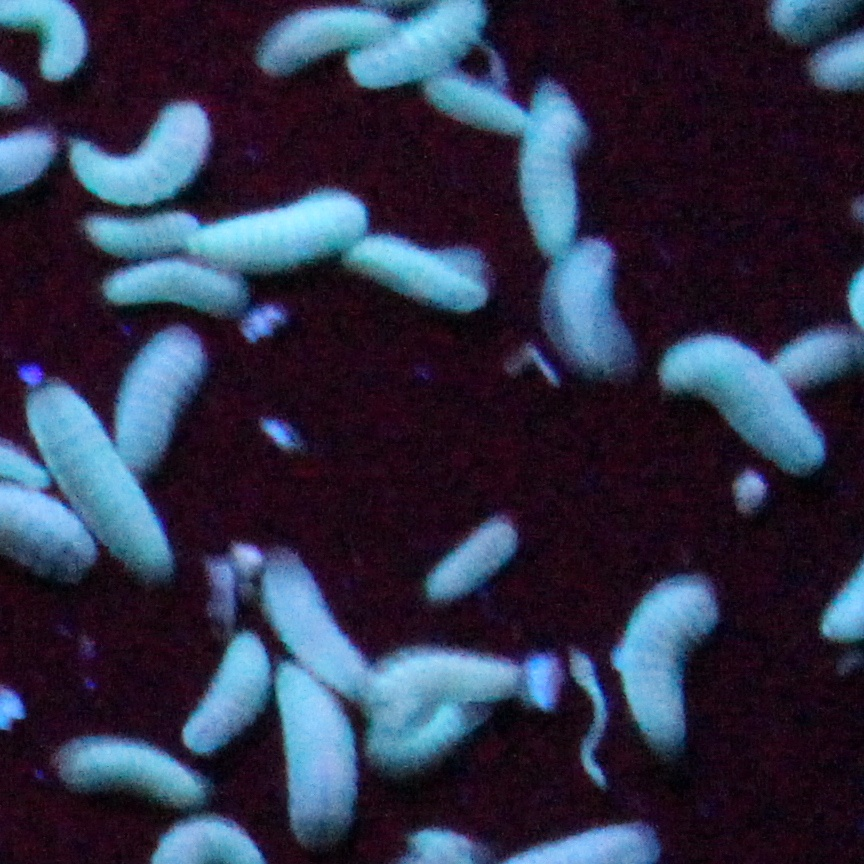larve: (18, 384, 182, 560), (660, 333, 826, 472), (254, 560, 382, 668), (55, 734, 210, 816), (118, 336, 214, 468), (278, 688, 366, 828), (554, 248, 634, 392), (82, 104, 202, 200), (634, 580, 706, 740), (362, 231, 487, 320), (386, 640, 514, 724), (202, 204, 358, 260), (358, 16, 470, 92), (95, 262, 244, 316), (534, 88, 586, 240), (426, 528, 526, 604), (258, 16, 390, 72), (194, 636, 254, 756), (70, 215, 196, 262)
